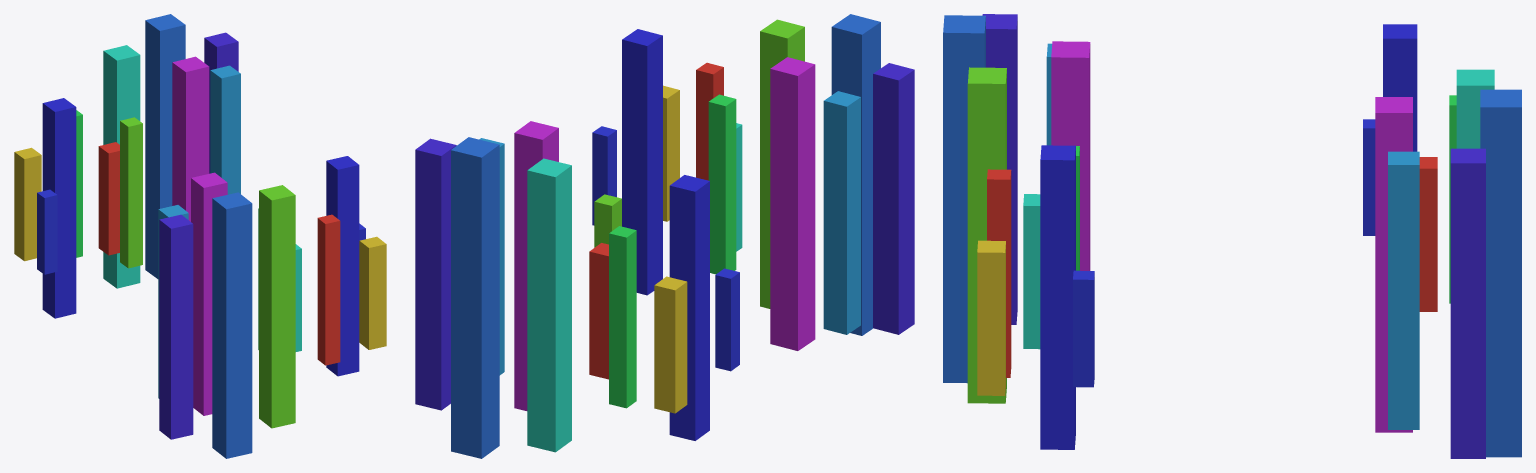
Rendered from фон.fbx.
3 views of the same model, side by side, from view 1: azimuth 30°, elevation 25°; view 2: azimuth 150°, elevation 25°; view 3: azimuth 270°, elevation 25° (orthographic). The views are drawn at different scales.
Visible parts, largest first — view 1: Cube.019, Cube.011; view 2: Cube.011, Cube.019; view 3: Cube.019, Cube.011.
Boxes of the visible parts, box(x1,y1,x2,y2) form: Cube.019: box(158, 156, 386, 458); Cube.011: box(14, 14, 240, 318); Cube.011: box(415, 121, 739, 458); Cube.019: box(592, 14, 914, 350); Cube.019: box(943, 14, 1094, 449); Cube.011: box(1363, 24, 1521, 458).
Bounding box in the file's own units: 3787 × 3977 × 5778.
